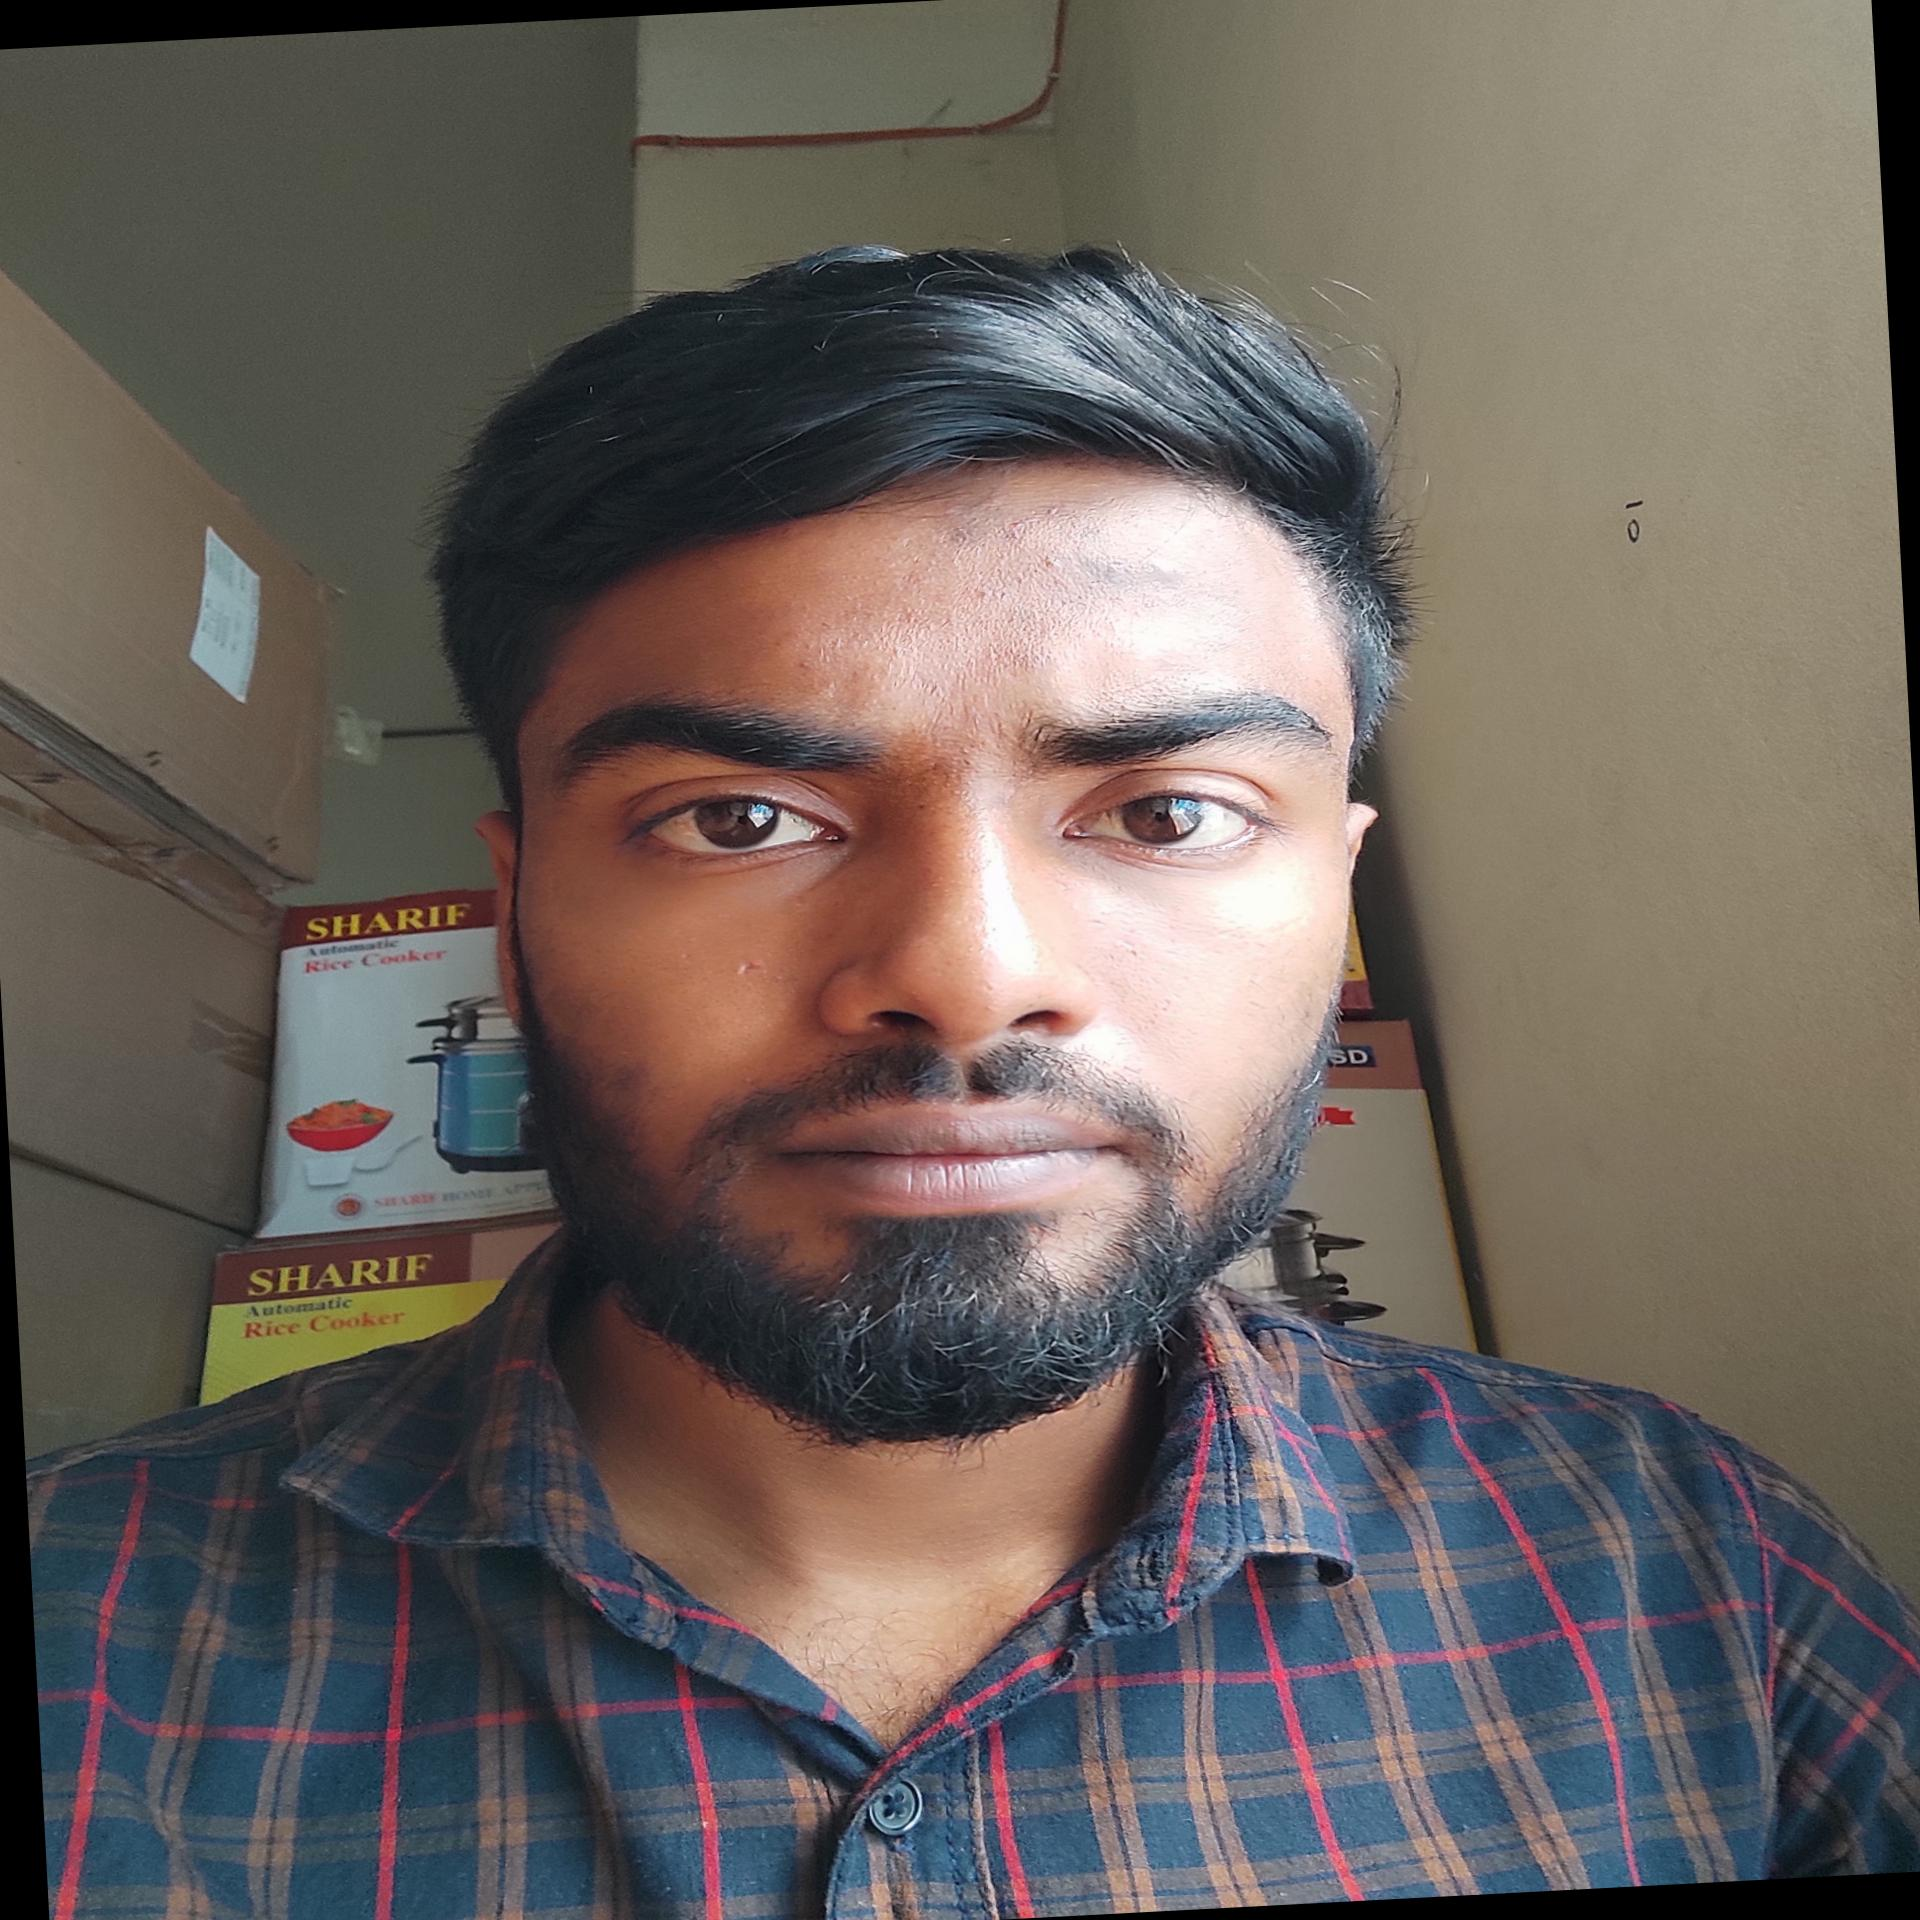Dry Skin: (782, 510, 1189, 696)
Englarged Pores: (1106, 932, 1201, 1053)
